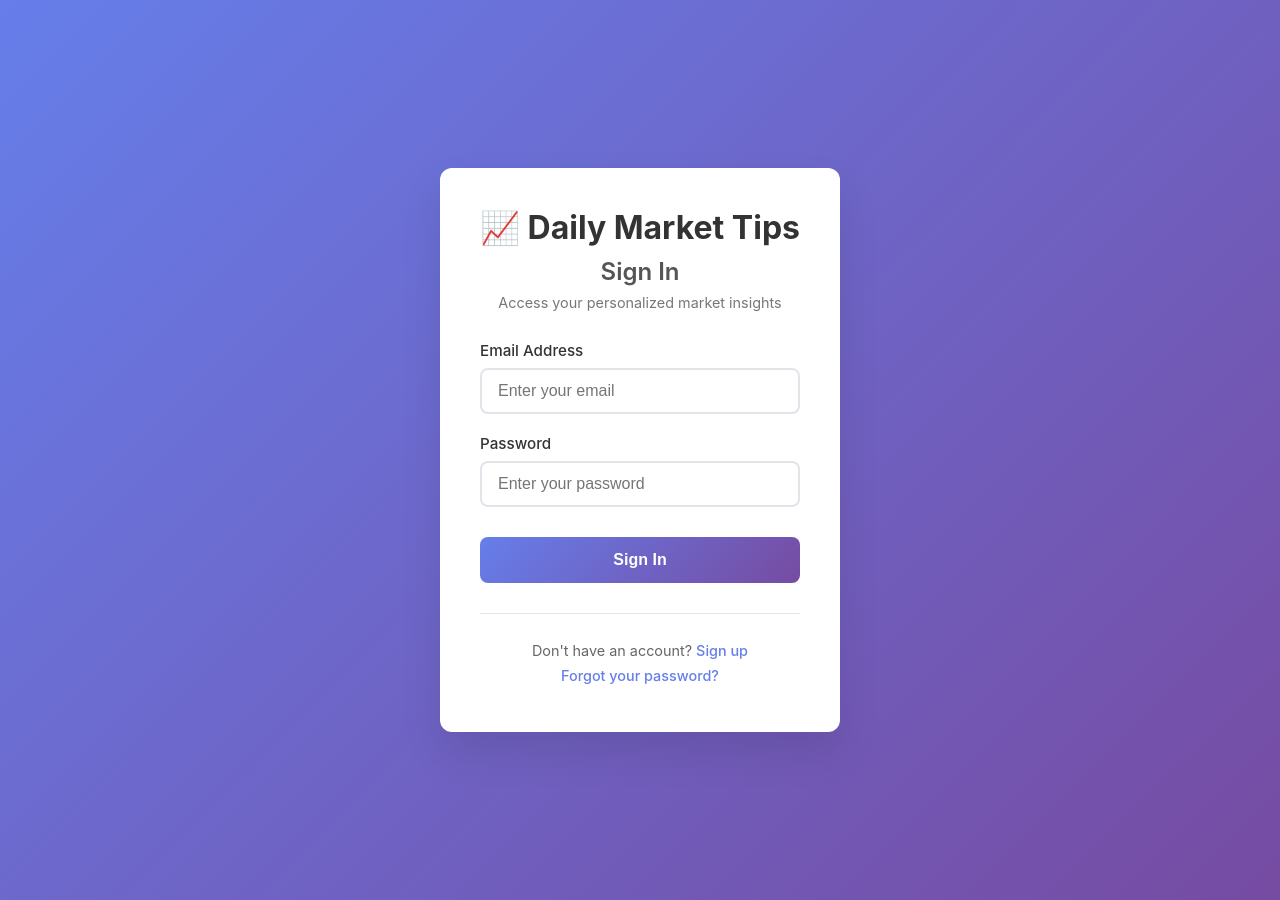
Test: LoginPage › Form Validation › shows validation error for invalid email format
Type "invalid-email" into the field labelled "Email Address". click: coordinates (640, 391)
box: [480,368,800,414]
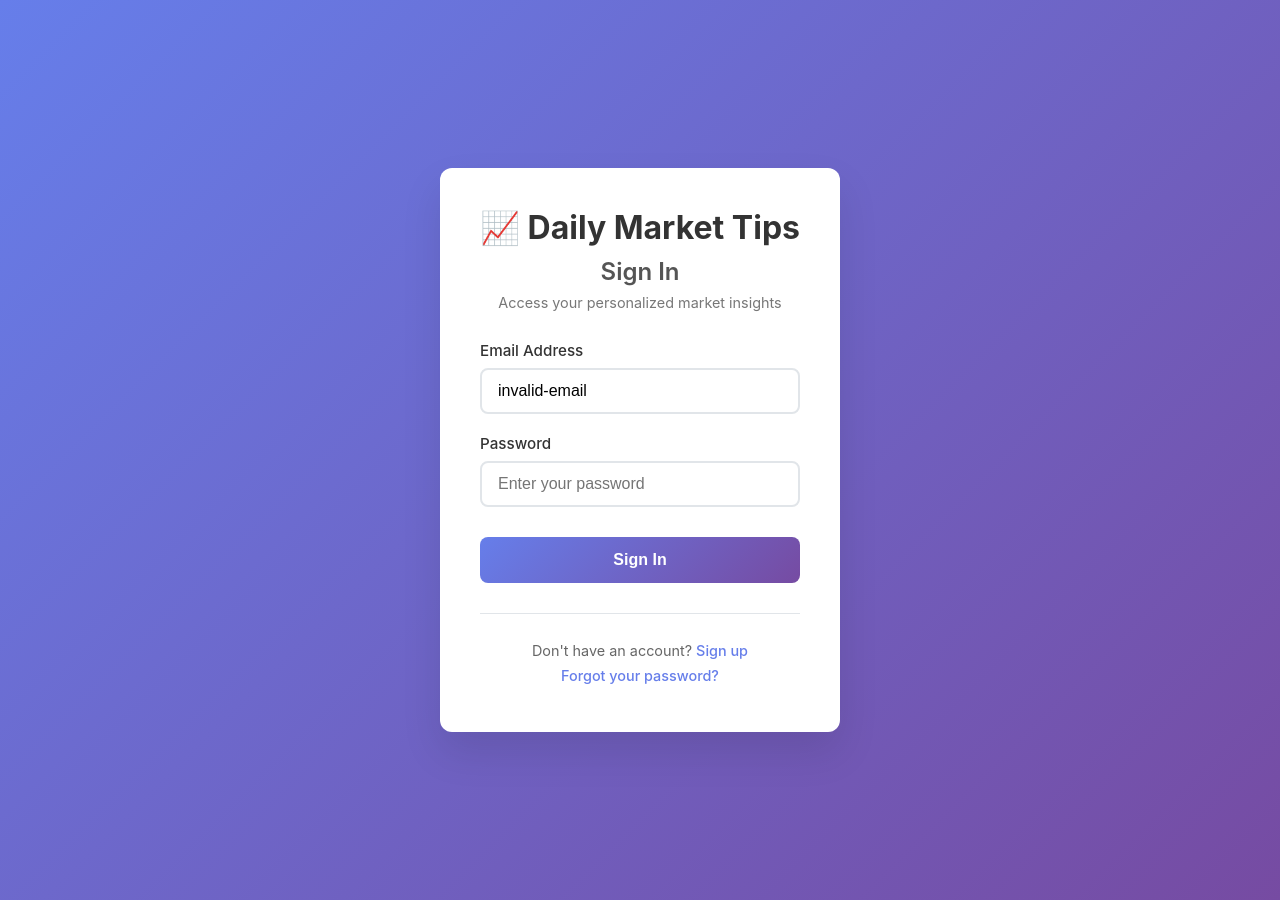
Click the button "Sign In". click: coordinates (640, 560)
box: [480,537,800,583]
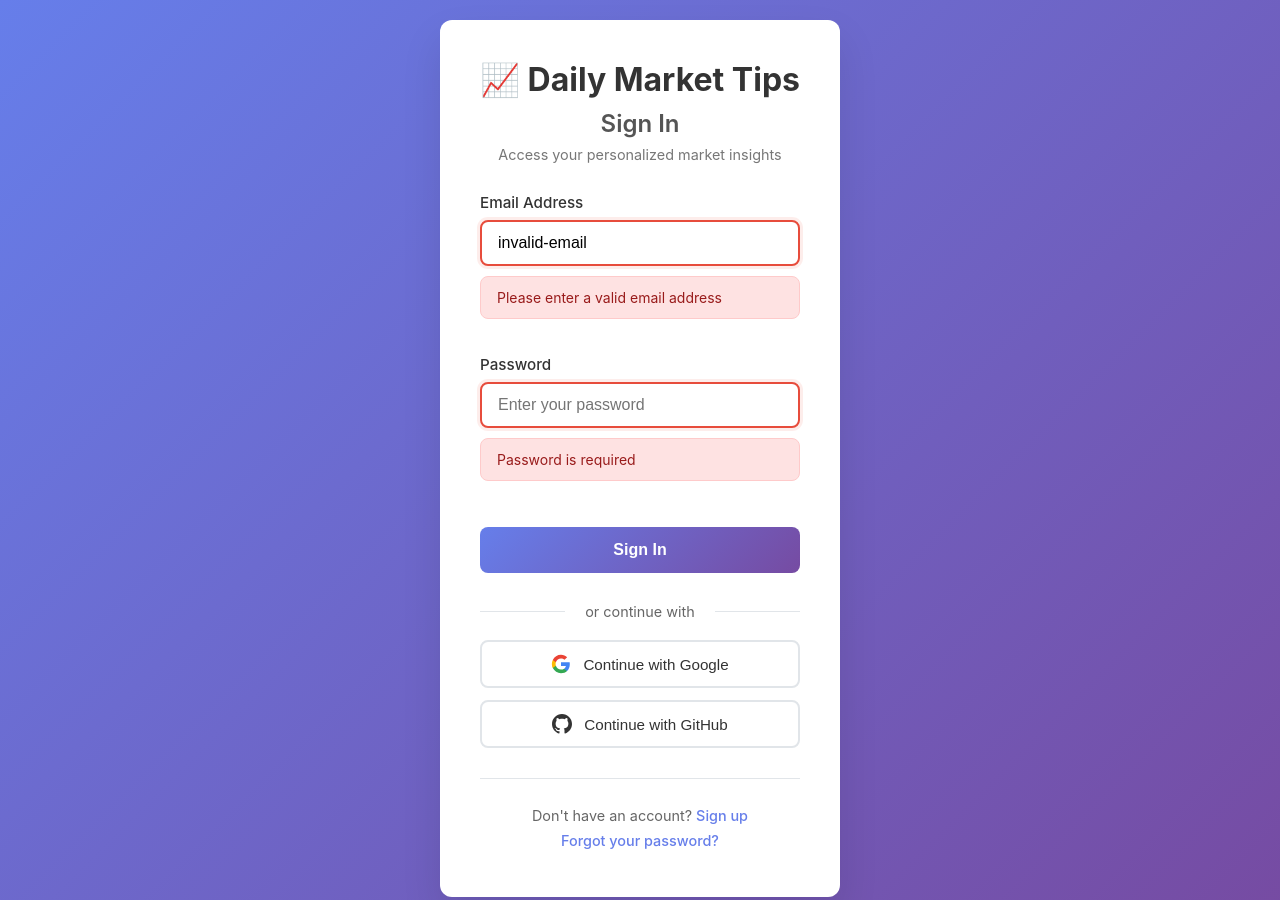
Expected: the text "Please enter a valid email address" is shown, [480,276,800,319]
